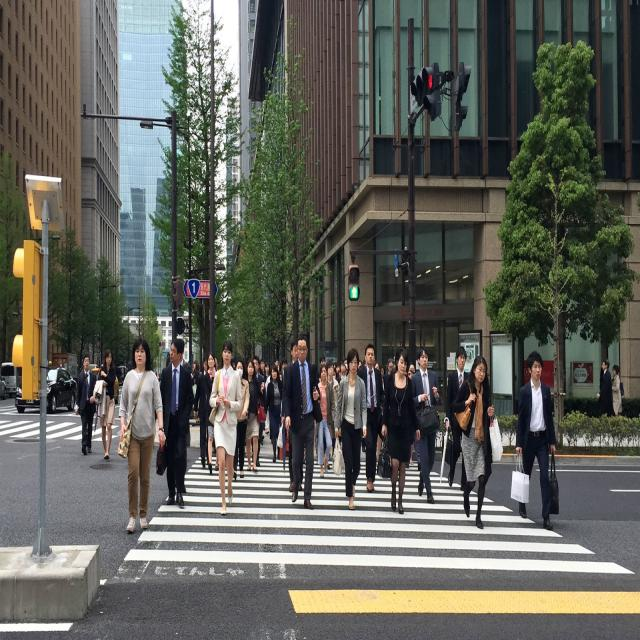body: (115, 334, 167, 536), (451, 352, 505, 528), (256, 354, 424, 402), (514, 350, 558, 532), (375, 344, 422, 514), (165, 353, 257, 435), (283, 333, 324, 511), (156, 337, 194, 508), (208, 338, 244, 516), (331, 345, 368, 511), (409, 344, 443, 506), (440, 346, 470, 492), (356, 343, 384, 494), (281, 338, 305, 494), (92, 347, 119, 461), (74, 353, 98, 455), (315, 363, 336, 479), (244, 358, 265, 473), (265, 360, 287, 466), (231, 358, 250, 480), (251, 354, 268, 466), (323, 359, 340, 471), (204, 350, 219, 476), (193, 353, 209, 469), (596, 356, 614, 416), (611, 364, 625, 417)
